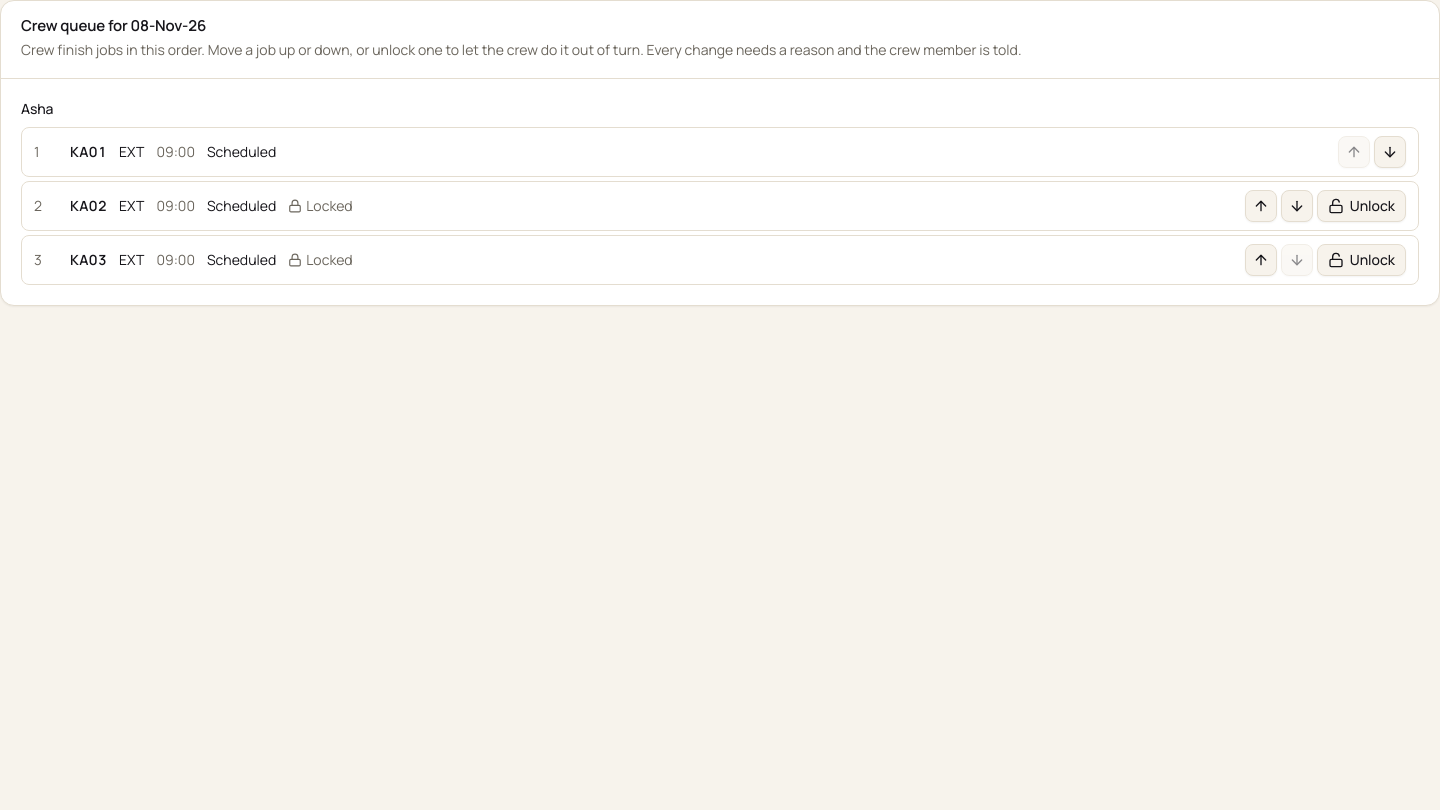
it: the crew queue (S-13, C-04, B-06) › unlocks a locked job only with a reason
Click the button with aria-label "Unlock KA03": (1361, 260) 1317,244 -> 1406,276
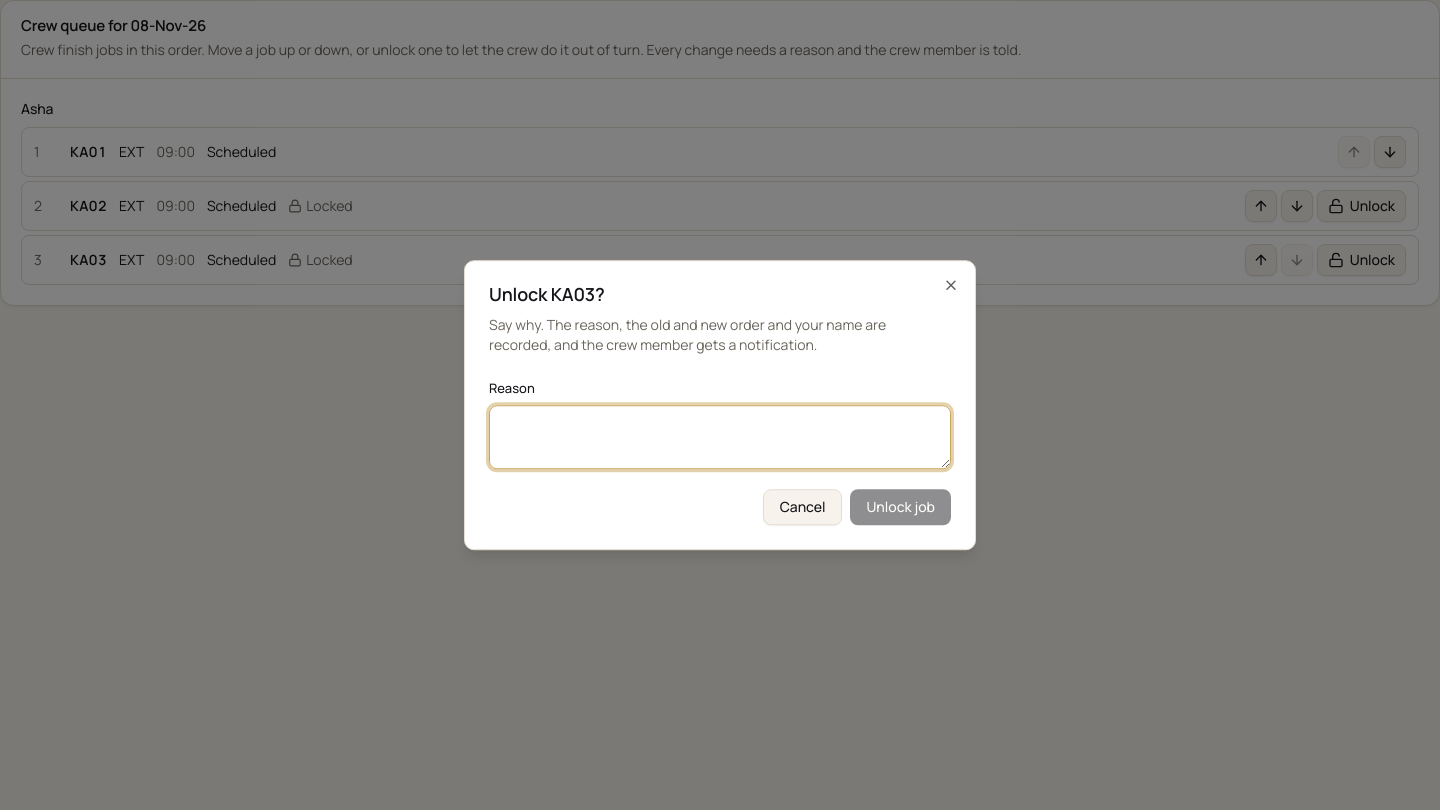
Expected: the button "Unlock job" is disabled, 850,489 -> 951,525
In the text box labelled "Reason": (720, 437) 489,405 -> 951,469, type "Owner asked"
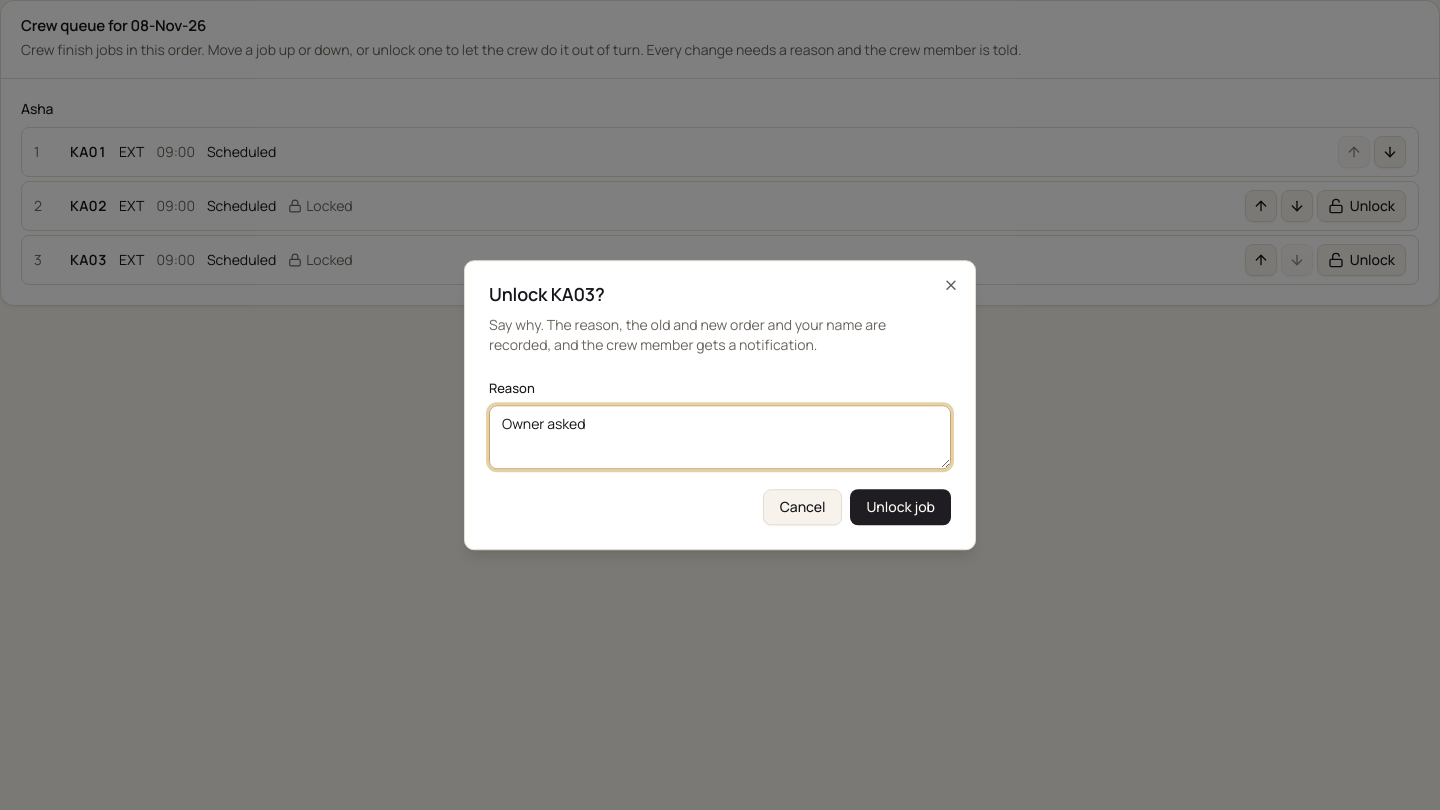
Click the button "Unlock job": (901, 507) 850,489 -> 951,525
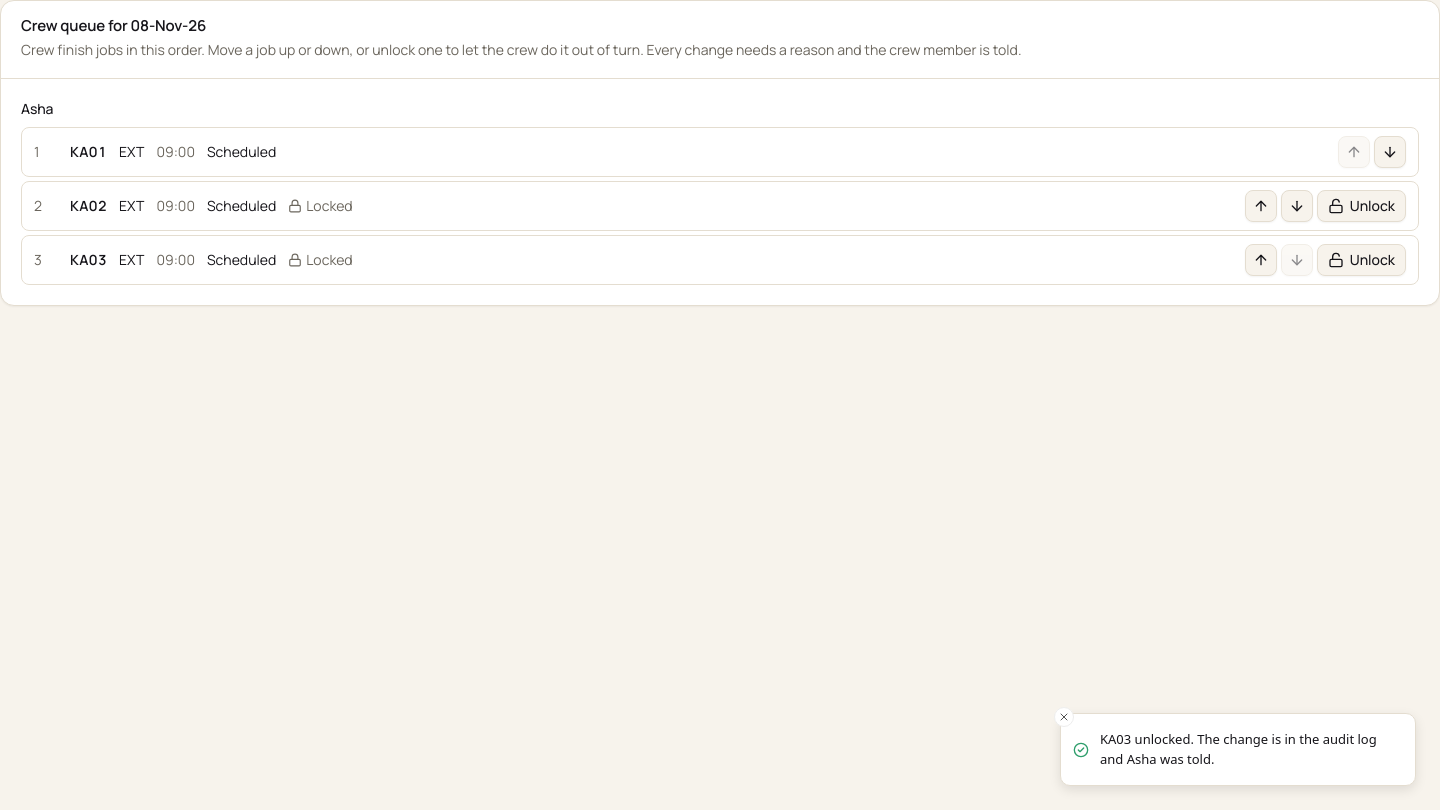
Expected: the text "KA03 unlocked. The change is in the audit log" is shown, 1100,730 -> 1377,768
